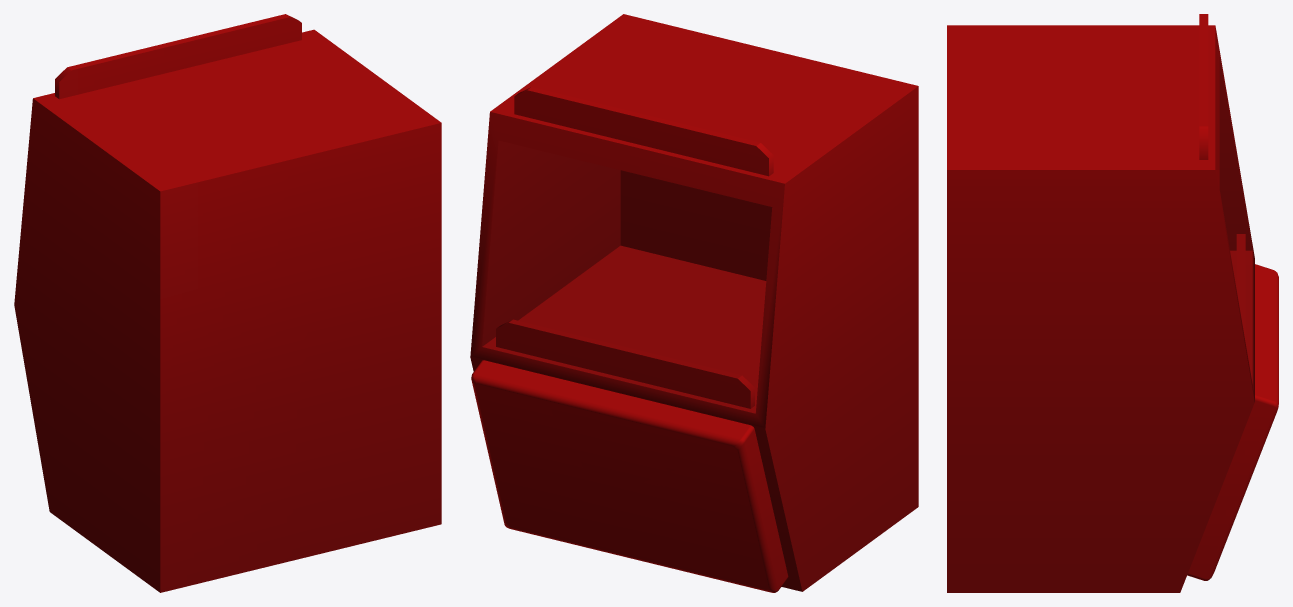
File: Shelf_Tiny_Fruit.fbx
3 renders of one model, left to right at view 1: azimuth 30°, elevation 25°; view 2: azimuth 150°, elevation 25°; view 3: azimuth 270°, elevation 25°, orthographic. The views are drawn at different scales.
Visible parts, largest first — view 1: Shelf_Tiny_Fruit; view 2: Shelf_Tiny_Fruit; view 3: Shelf_Tiny_Fruit.
Boxes of the visible parts, x1,y1,x2,y2 form: Shelf_Tiny_Fruit: (14,14,441,592); Shelf_Tiny_Fruit: (470,14,918,592); Shelf_Tiny_Fruit: (947,14,1278,592).
Bounding box in the file's own units: 4.99 × 7.24 × 4.84.
